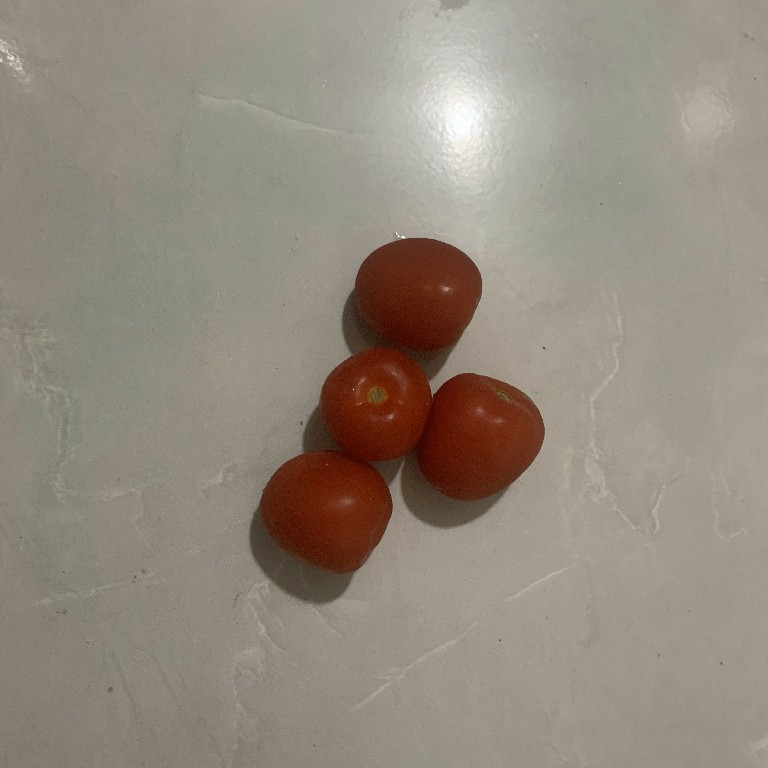OK: (263, 454, 399, 580), (413, 372, 546, 500), (349, 237, 490, 353), (318, 352, 436, 454)
